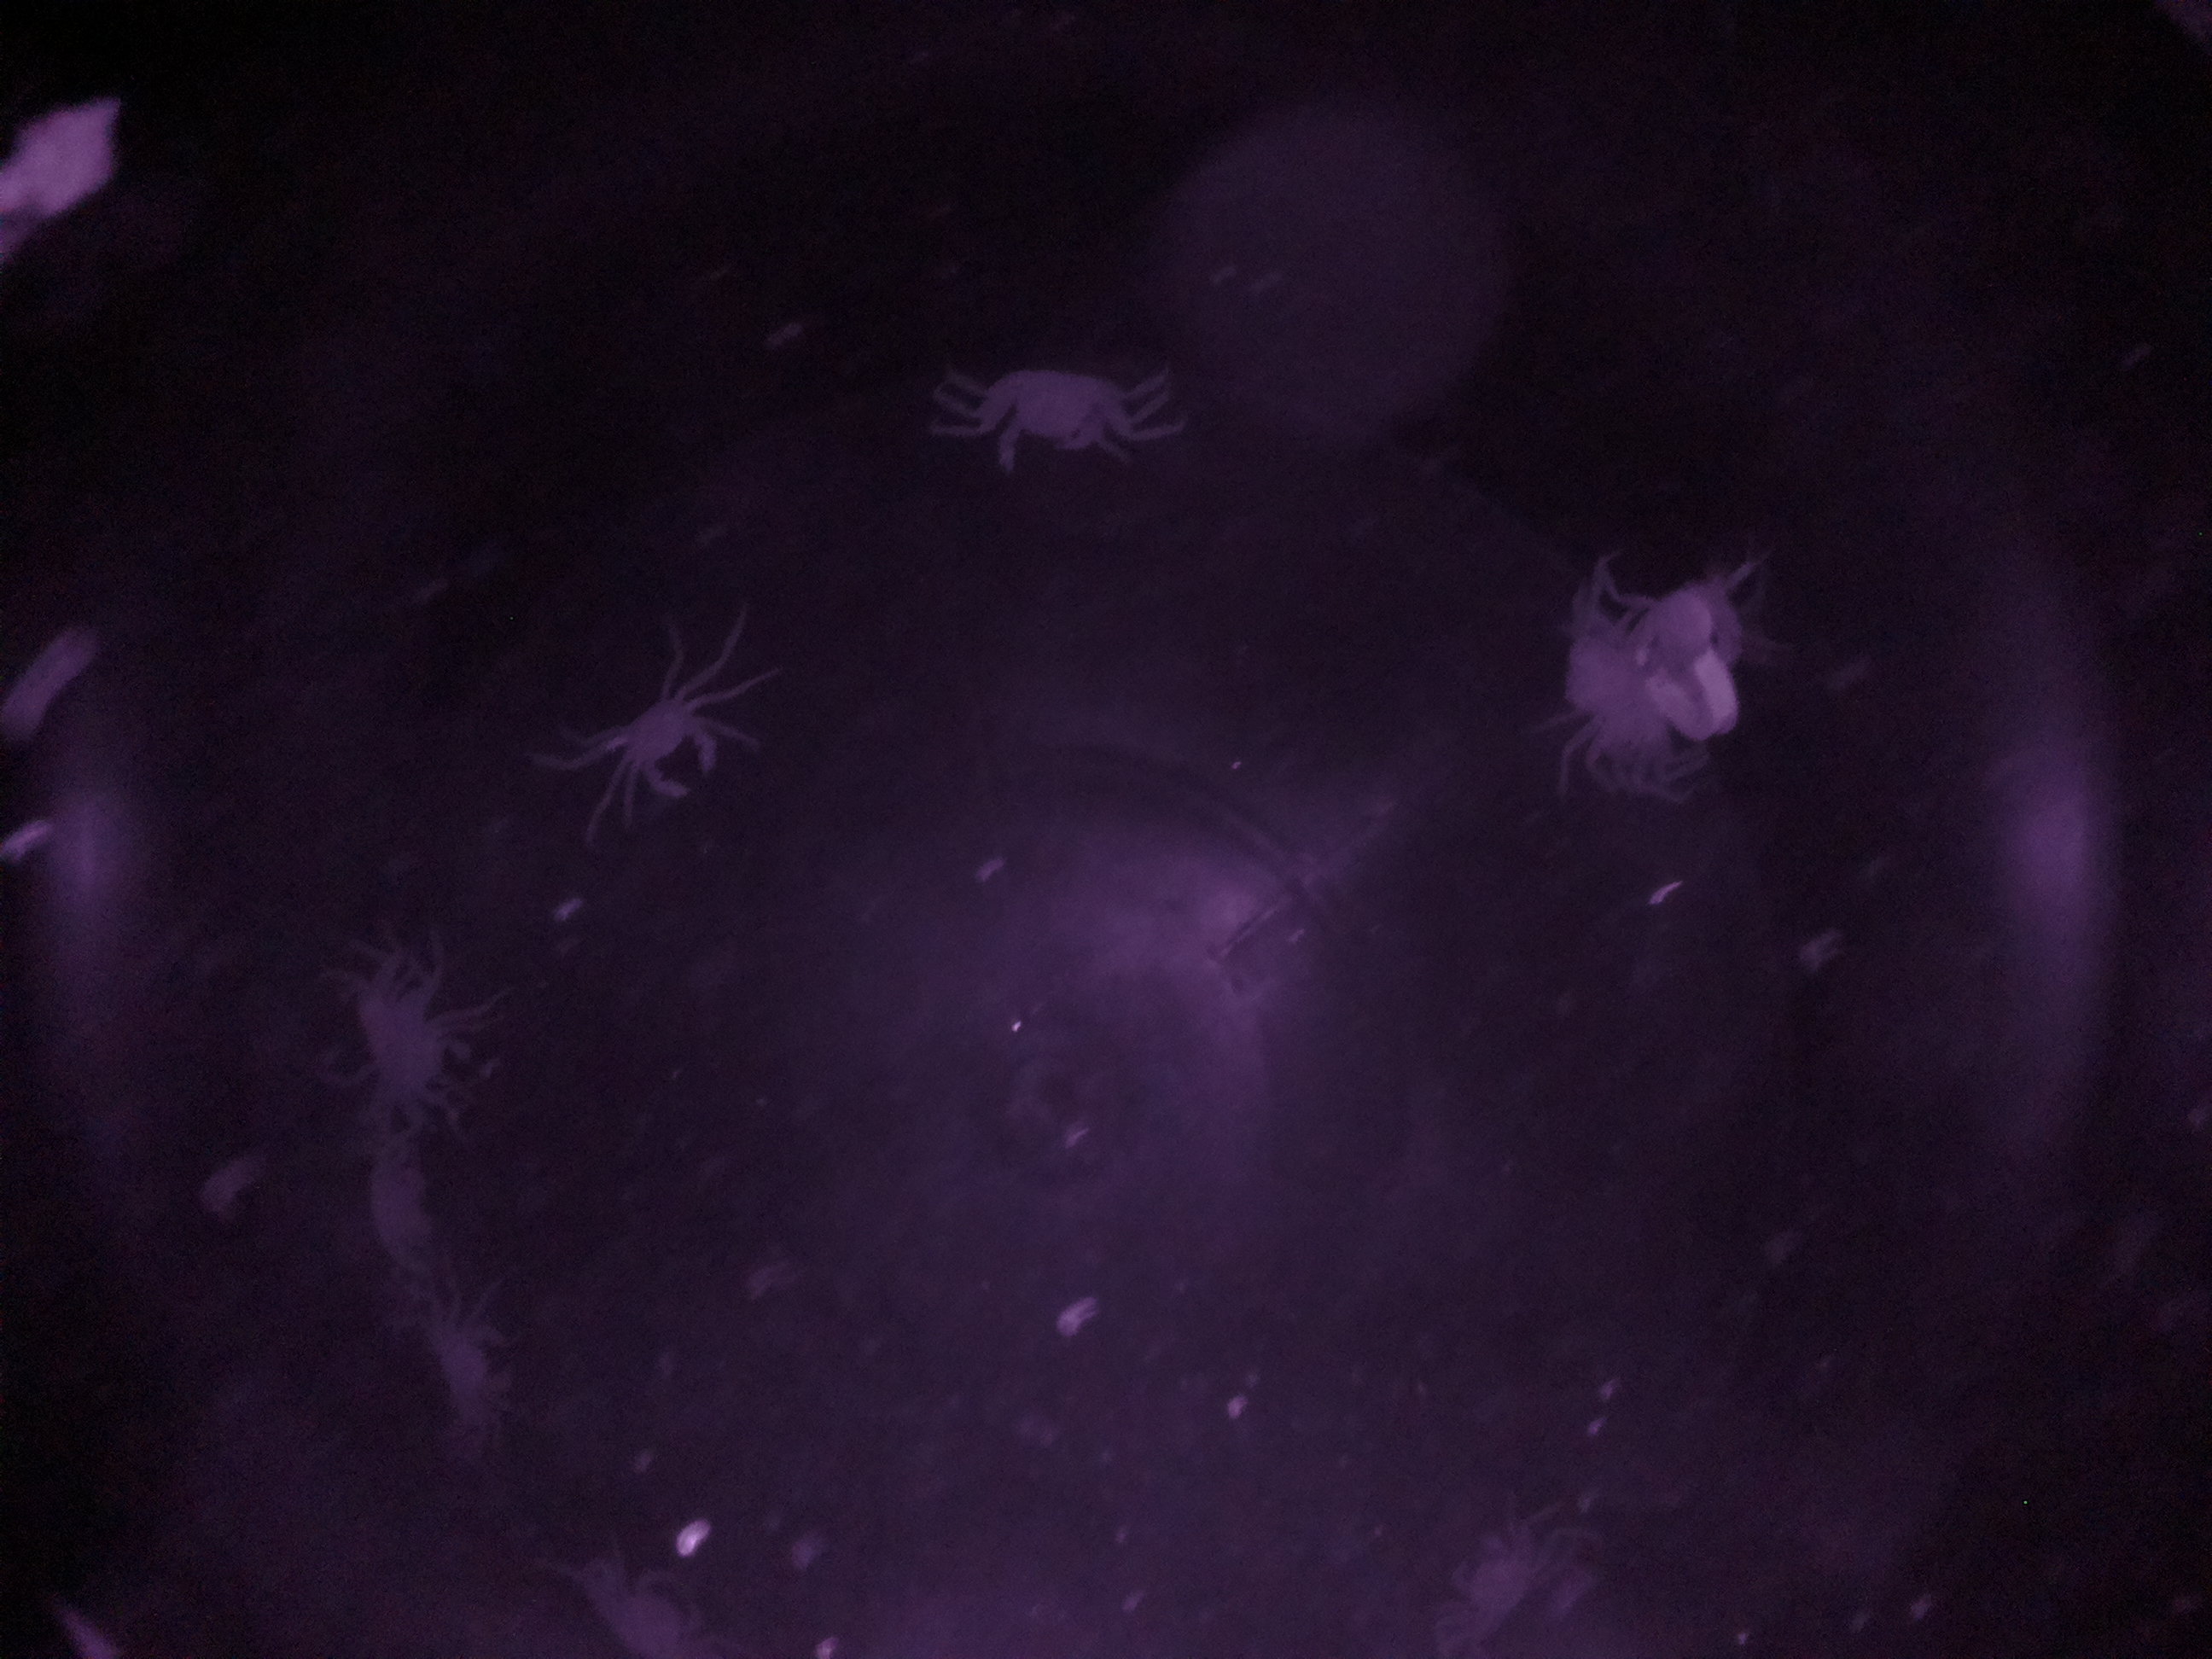Crab: (942, 326, 1155, 491), (596, 660, 737, 823)
